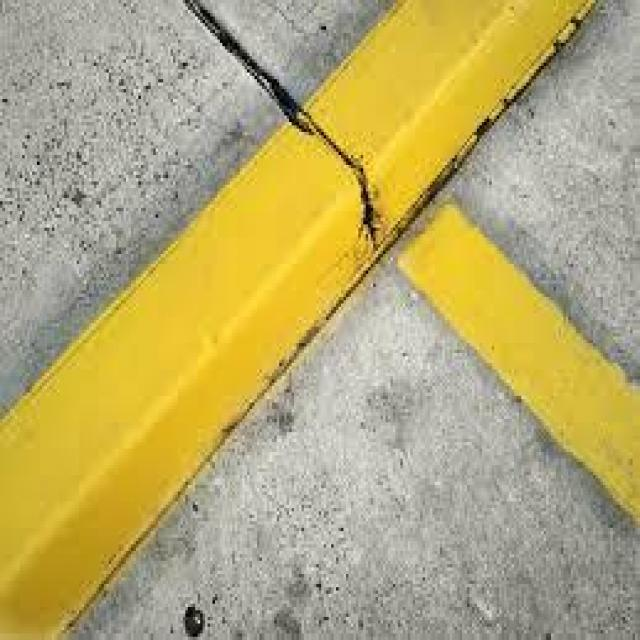curb: (8, 113, 386, 638), (294, 8, 585, 258)
